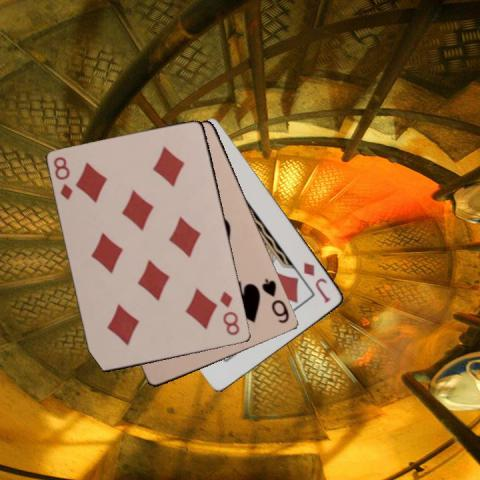6s: (259, 276, 291, 326)
8d: (218, 288, 242, 337), (51, 154, 74, 202)
Jd: (300, 259, 332, 305)
